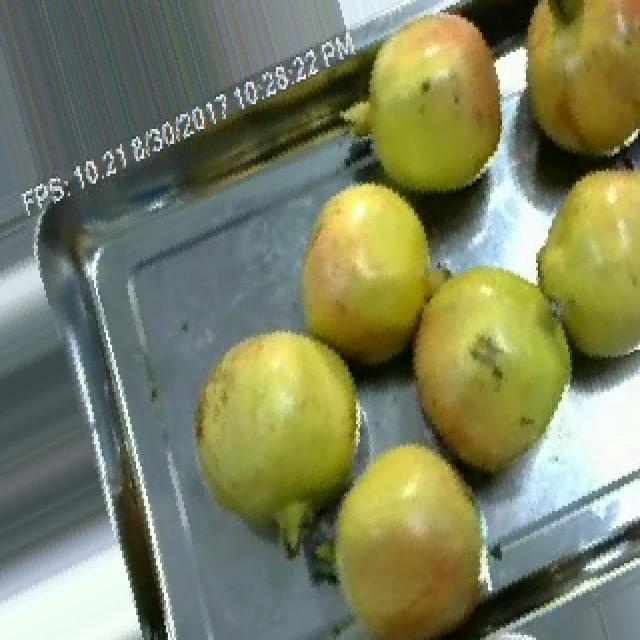fruit: (380, 233, 604, 496), (168, 308, 394, 563), (300, 416, 518, 640), (284, 159, 476, 384), (344, 0, 528, 213), (516, 154, 640, 379), (502, 0, 640, 181)
